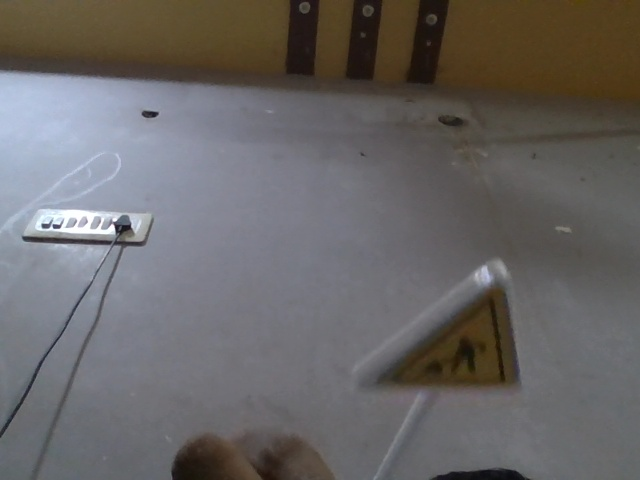workinprogress: (316, 253, 524, 405)
